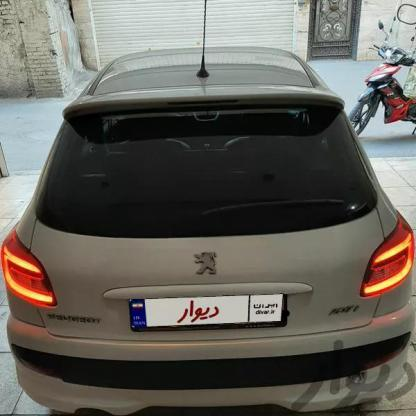Car: (0, 32, 416, 416)
